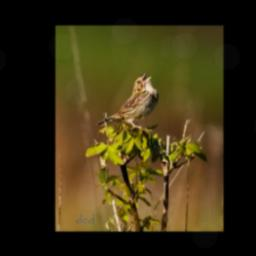Sparrow: (95, 71, 159, 130)
